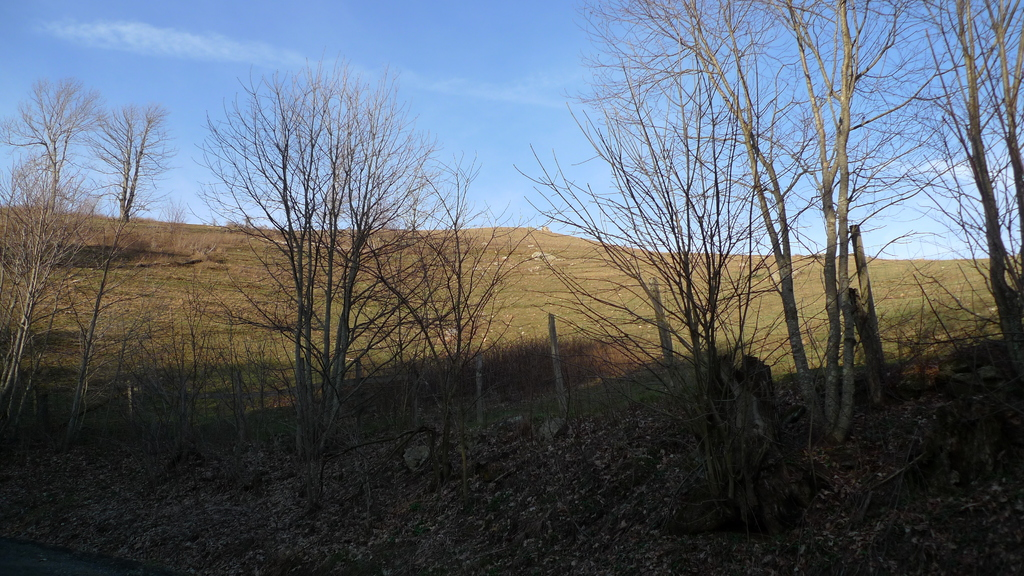Tree: (513, 0, 1023, 512), (0, 51, 545, 489)
